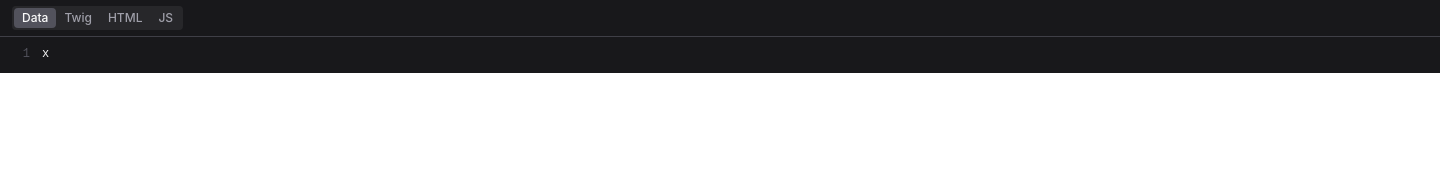
Test: SourcePanel › offers the Twig, CSS and JS views only when listed and the entry has them
The image size is (1440, 174).
expect the button with test id "source-tab-js" is shown: met, box [150,8,181,28]
Click the button with test id "source-tab-twig". click: point(78, 18)
box: [56,8,100,28]
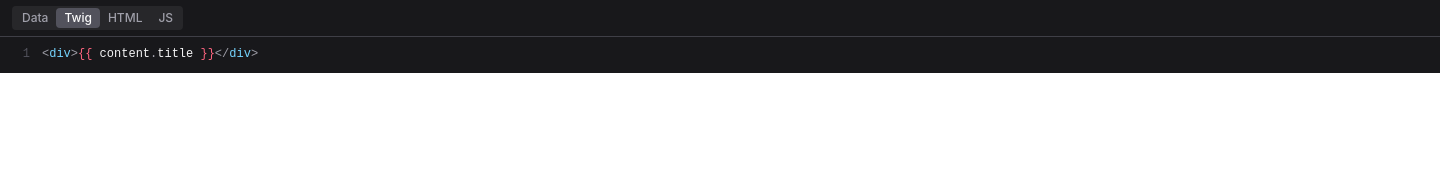
expect the element with test id "source-code" shows "{{ content.title }}": met, box [42,47,258,61]
Click the button with test id "source-tab-js". click: point(166, 18)
box: [150,8,181,28]
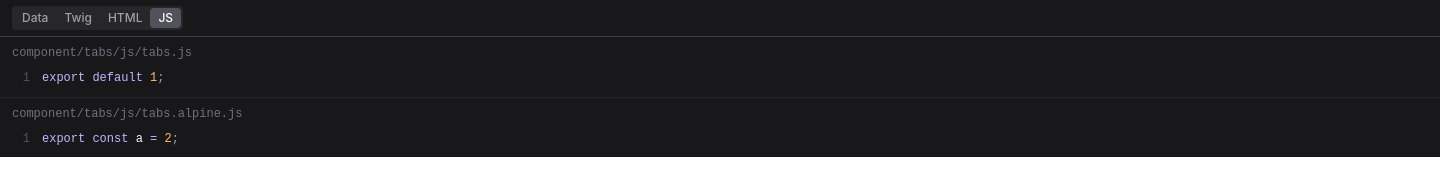
expect the elements with test id "source-file-heading" read "component/tabs/js/tabs.js", "component/tabs/js/tabs.alpine.js", in this order: met, box [12,46,192,60]; [12,106,242,120]
